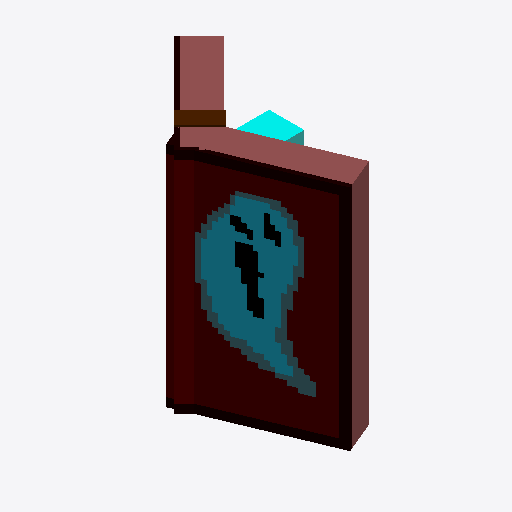
A Minecraft block model of 7 cuboids, rendered isometrically (azimuth 45°, elevation 35.3°) with the resource pack's own textures.
Visible parts, largest first — element 2, element 1, element 5, element 7.
Part boxes in pixels (x1,y1,x2,y2): element 2: (166,127,368,450); element 1: (174,36,223,413); element 5: (237,110,303,144); element 7: (174,110,225,126).
Size of the model in its own units: 8.13 by 14.1 by 12.51.